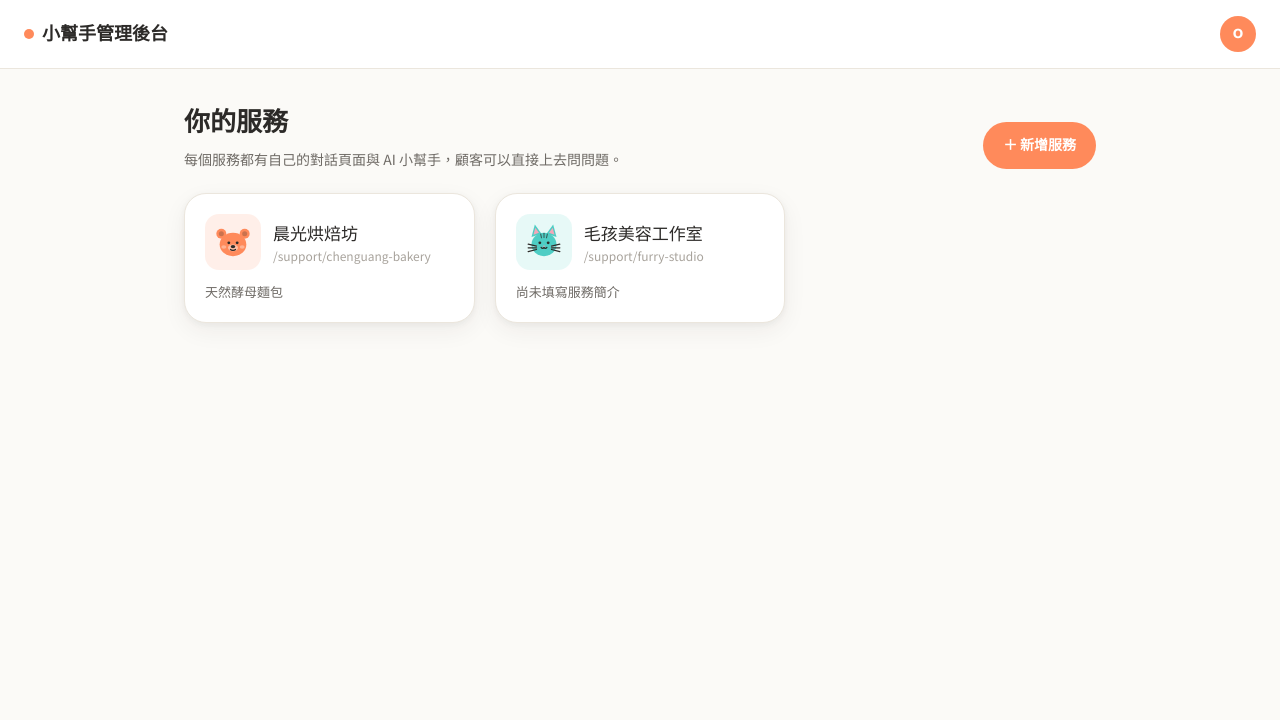
console: owner settings against the backend API › edit content › loads the saved sections from the backend
Check: the heading "你的服務" is shown, box [184,103,288,145]
Click the text "晨光烘焙坊": (316, 232) [273,220,358,245]
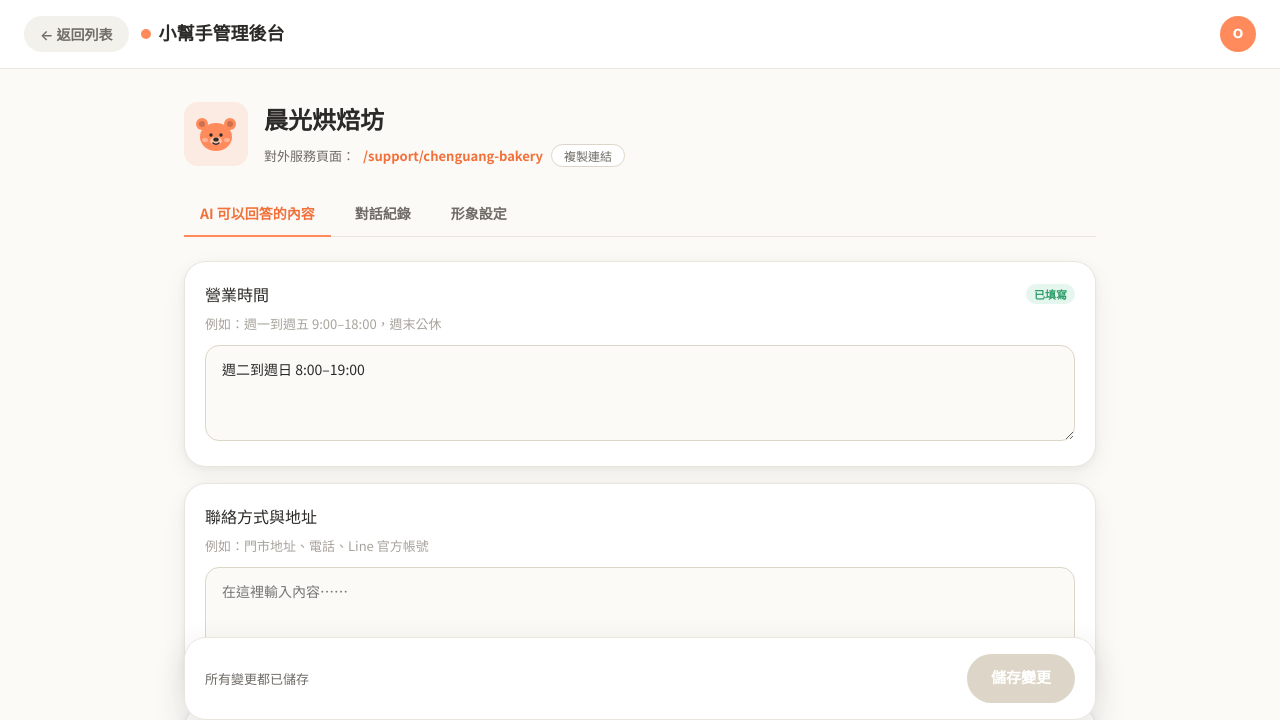
Check: the heading "晨光烘焙坊" is shown, box [264,103,384,142]
Check: the text box with placeholder "在這裡輸入內容……" holds "週二到週日 8:00–19:00", box [205,345,1075,441]
